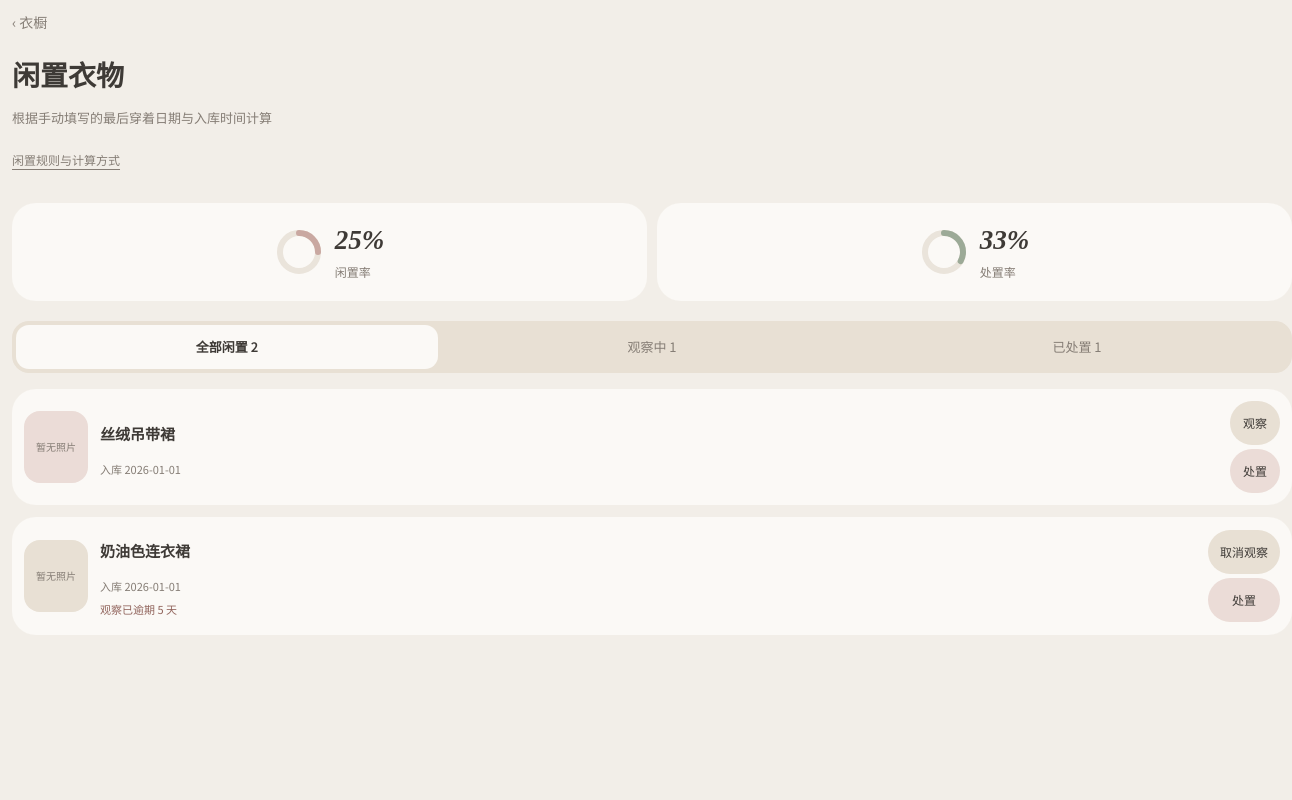
it: shows truthful counts, watch overdue, and separate income currencies
The image size is (1292, 800).
Expected: the button "全部闲置 2" is shown, [16, 325, 438, 369]
Expected: the text "根据手动填写的最后穿着日期与入库时间计算" is shown, [12, 108, 272, 127]
Click the button "观察中 1" at (652, 347), box [441, 325, 863, 369]
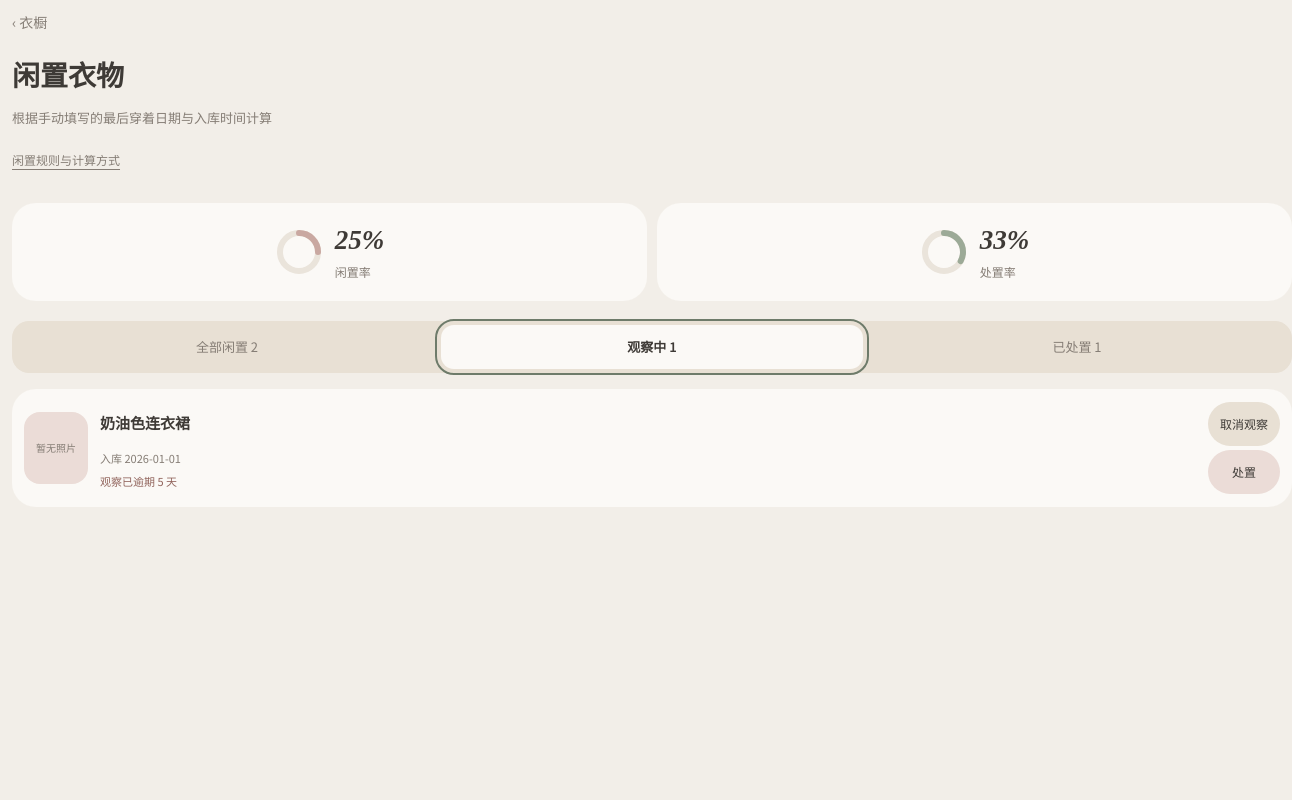
Expected: the text "观察已逾期 5 天" is shown, [100, 473, 177, 489]
Now the link "丝绒吊带裙" is gone
Click the button "已处置 1" at (1077, 347), box [866, 325, 1288, 369]
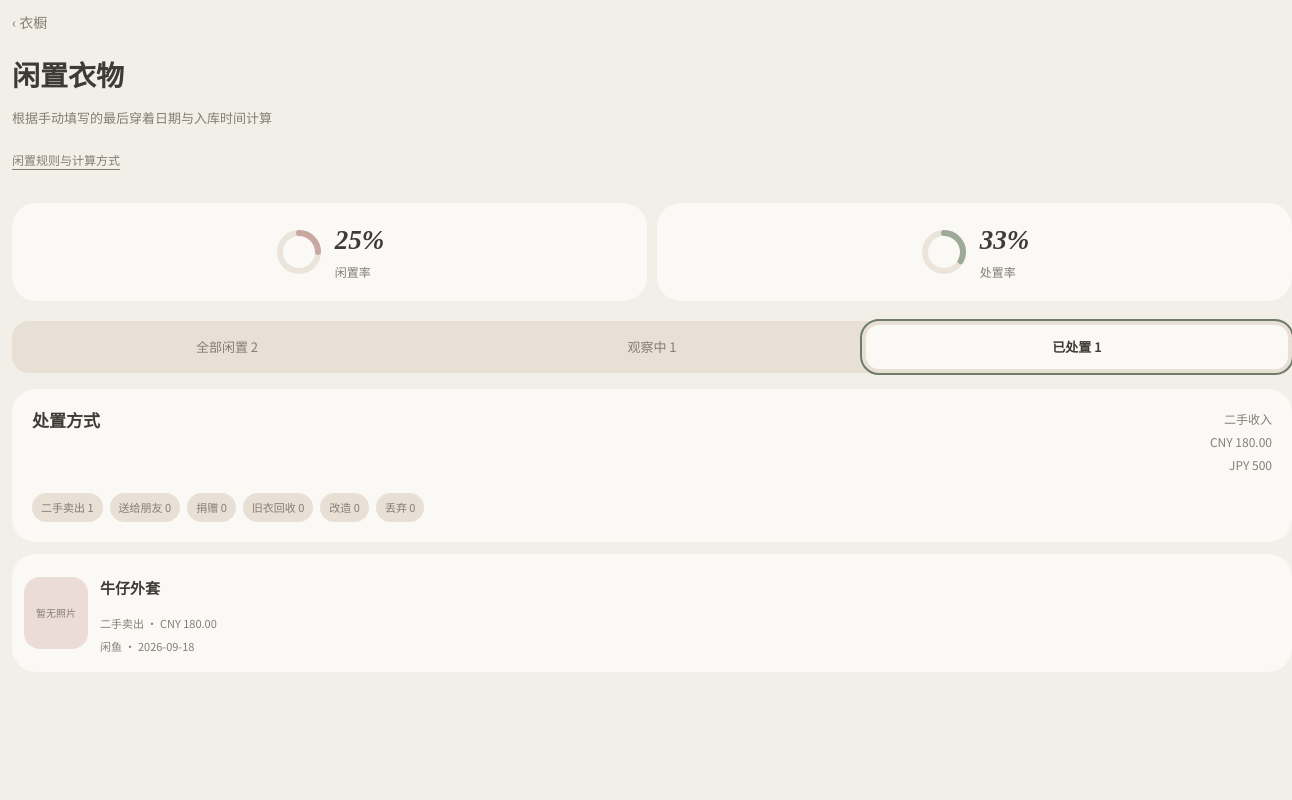
Now the text "CNY 180.00" is shown, box [1210, 432, 1272, 451]
Now the text "JPY 500" is shown, box [1229, 456, 1272, 473]
Now the text "二手卖出 1" is shown, box [32, 492, 103, 522]
